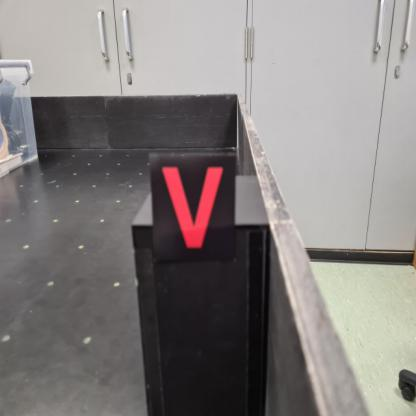v: (149, 152, 235, 263)
